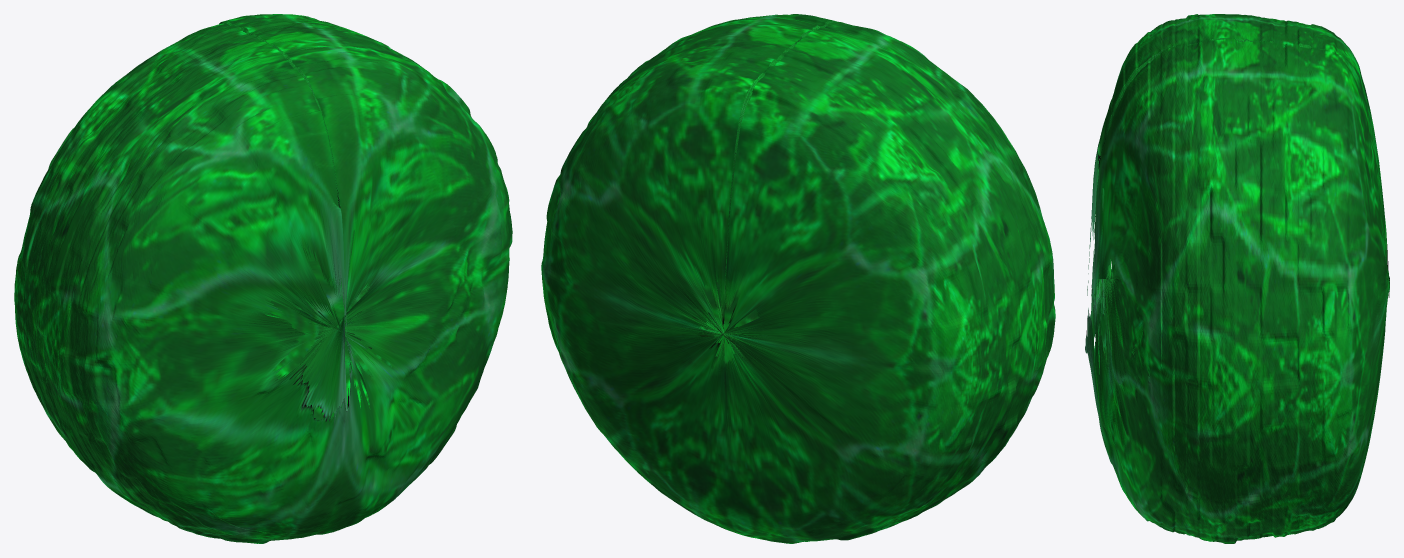
3 renders of one model, left to right at view 1: azimuth 30°, elevation 25°; view 2: azimuth 150°, elevation 25°; view 3: azimuth 270°, elevation 25°, orthographic.
Parts seen in each view (by area): view 1: geometry_0; view 2: geometry_0; view 3: geometry_0.
Boxes of the visible parts, bbox=[...] form: geometry_0: bbox=[14, 14, 512, 543]; geometry_0: bbox=[541, 14, 1055, 543]; geometry_0: bbox=[1085, 14, 1389, 543].
Size of the model in its own units: 1.97 by 2 by 1.15.
1 material, 1 textured.
